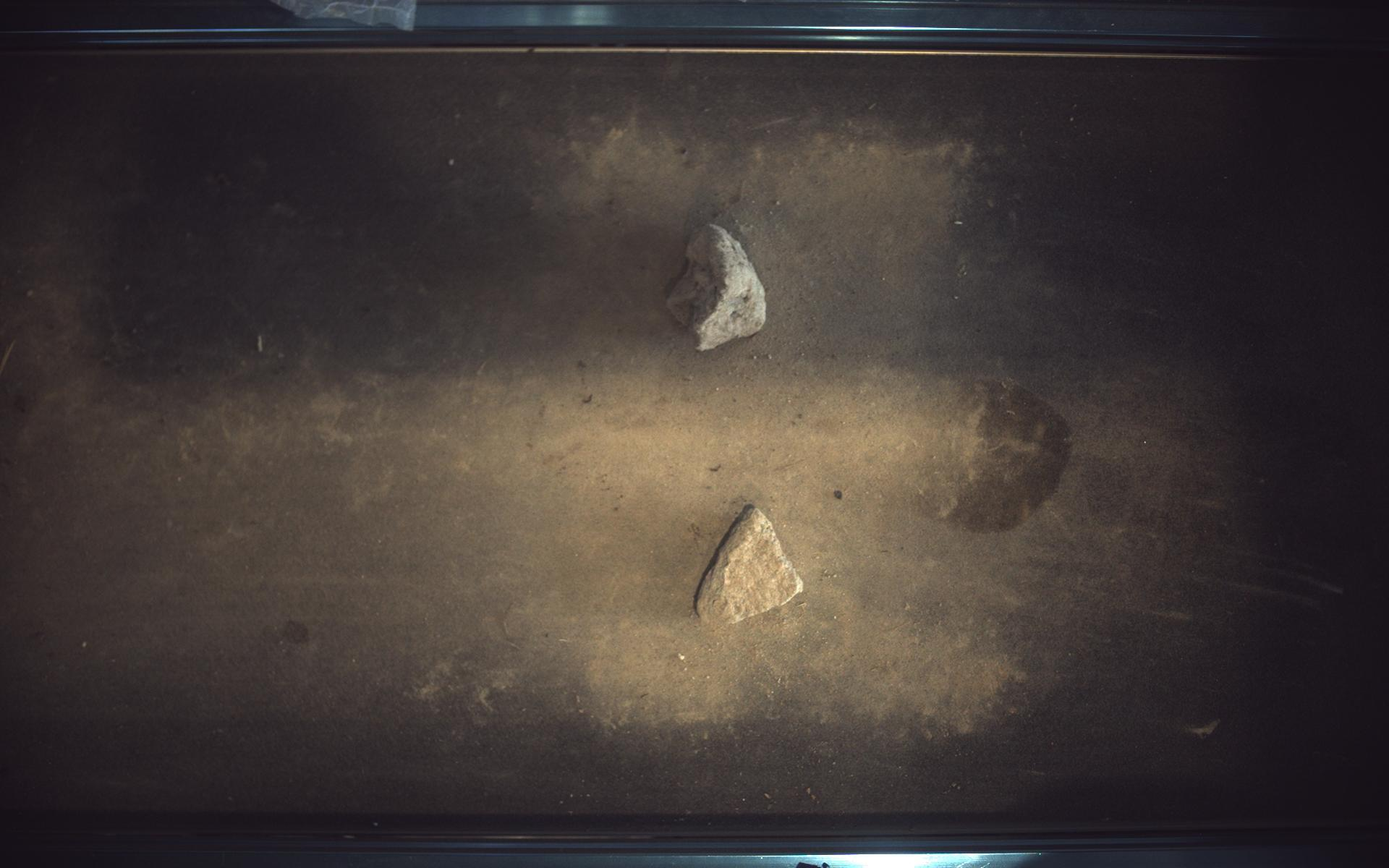stone: (697, 505, 804, 626), (668, 224, 768, 350)
